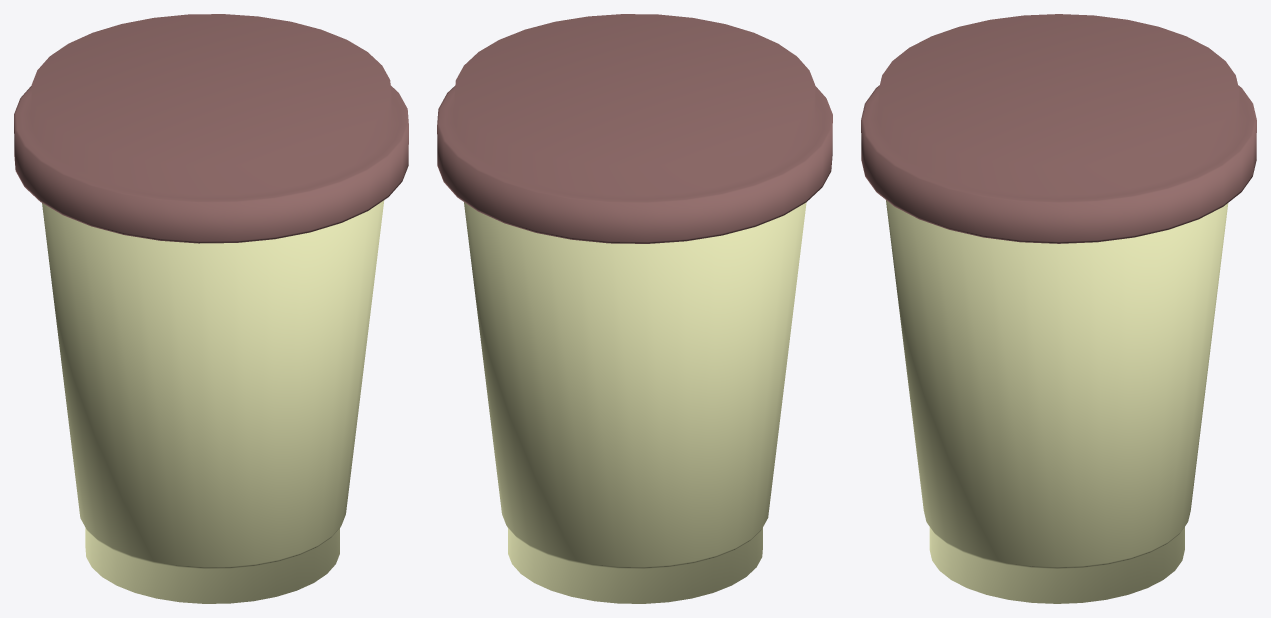
The model's file is KAFICA.fbx.
The picture shows the model from 3 angles, left to right: view 1: azimuth 30°, elevation 25°; view 2: azimuth 150°, elevation 25°; view 3: azimuth 270°, elevation 25°; orthographic projection.
Visible parts, largest first — view 1: Cylinder, Cylinder.001; view 2: Cylinder, Cylinder.001; view 3: Cylinder, Cylinder.001.
Part boxes in pixels (left/top/right/bottom): Cylinder: left=42, top=200, right=384, bottom=603; Cylinder.001: left=14, top=14, right=408, bottom=243; Cylinder: left=464, top=202, right=806, bottom=603; Cylinder.001: left=437, top=14, right=832, bottom=243; Cylinder: left=886, top=200, right=1228, bottom=603; Cylinder.001: left=861, top=14, right=1256, bottom=243.
Bounding box in the file's own units: 6.92 × 8.87 × 6.92.
